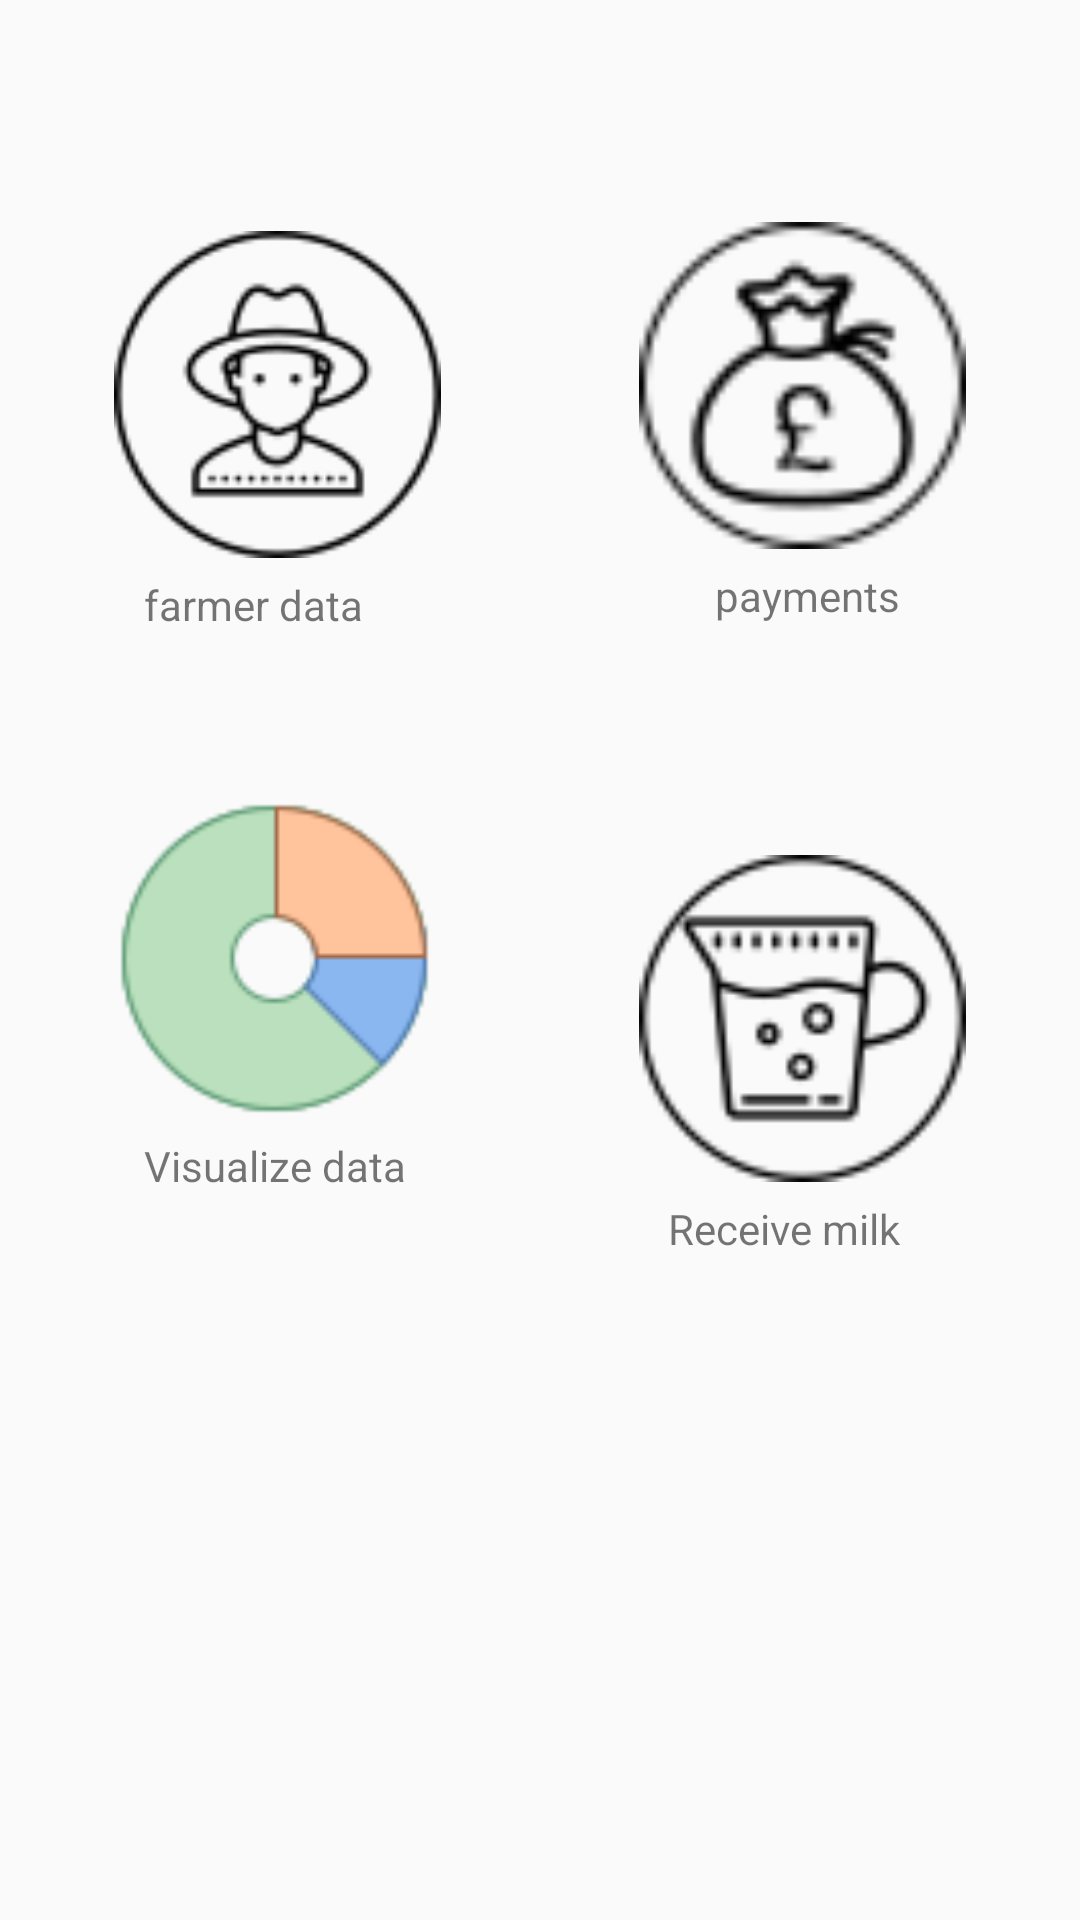

Locate icon controls on the screen. Image size 1080px x 1920px, boxes as [x1=x1, y1=y1, x2=x2, y2=y2].
doughnat: [x1=121, y1=805, x2=428, y2=1112]
farmer round: [x1=114, y1=231, x2=441, y2=558]
money round: [x1=639, y1=222, x2=966, y2=549]
